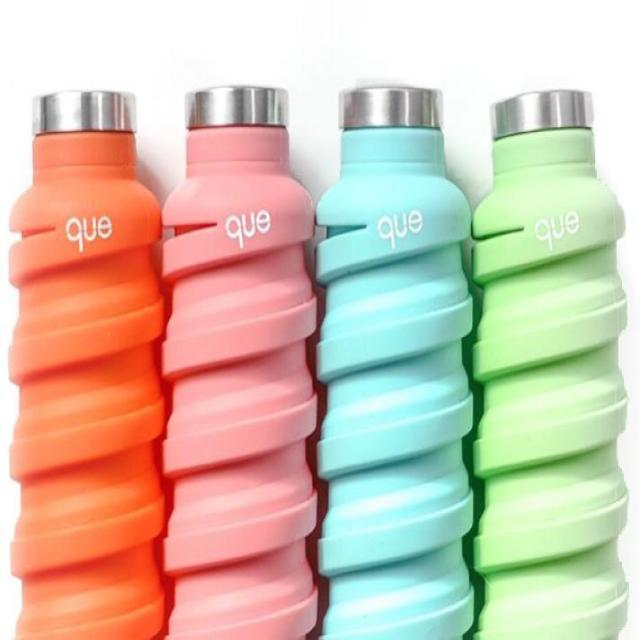plastic_bottle: (474, 94, 639, 637), (10, 80, 169, 640), (162, 85, 321, 640), (321, 86, 476, 640)
